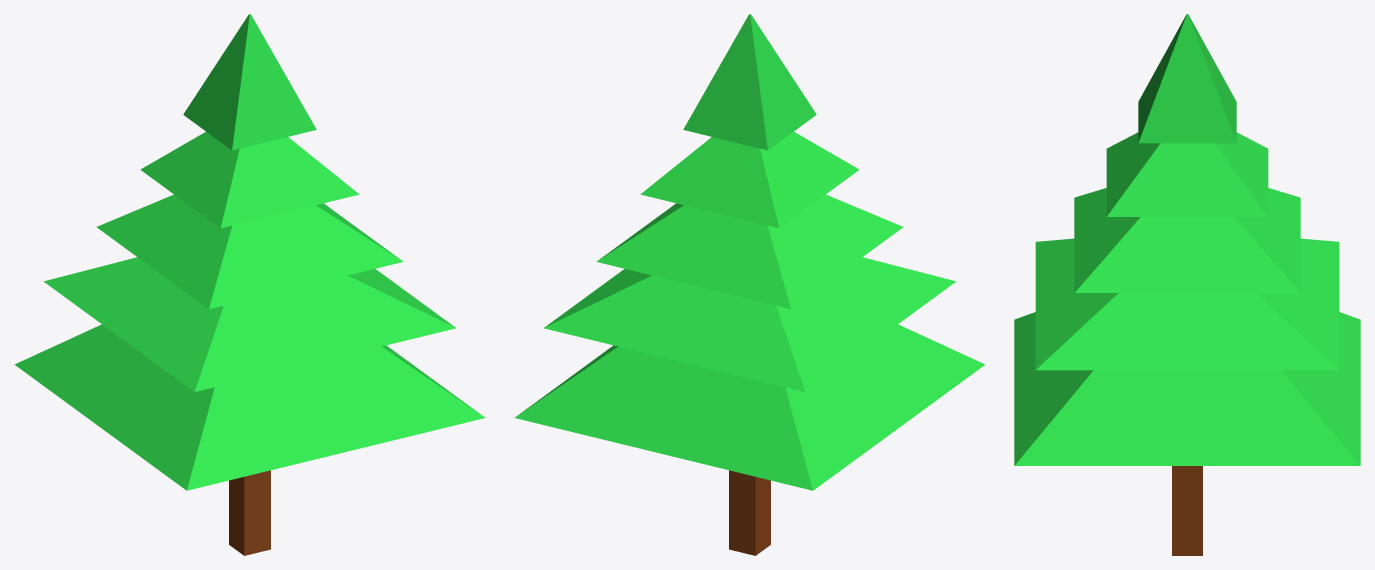
File: tree.gltf
The picture shows the model from 3 angles, left to right: view 1: azimuth 30°, elevation 25°; view 2: azimuth 150°, elevation 25°; view 3: azimuth 270°, elevation 25°; orthographic projection.
Visible parts, largest first — view 1: Cube; view 2: Cube; view 3: Cube.
Boxes of the visible parts, x1=… form: Cube: x1=14, y1=14, x2=484, y2=555; Cube: x1=515, y1=14, x2=985, y2=555; Cube: x1=1014, y1=14, x2=1360, y2=555.
Size of the model in its own units: 4.46 by 7.61 by 4.46.
